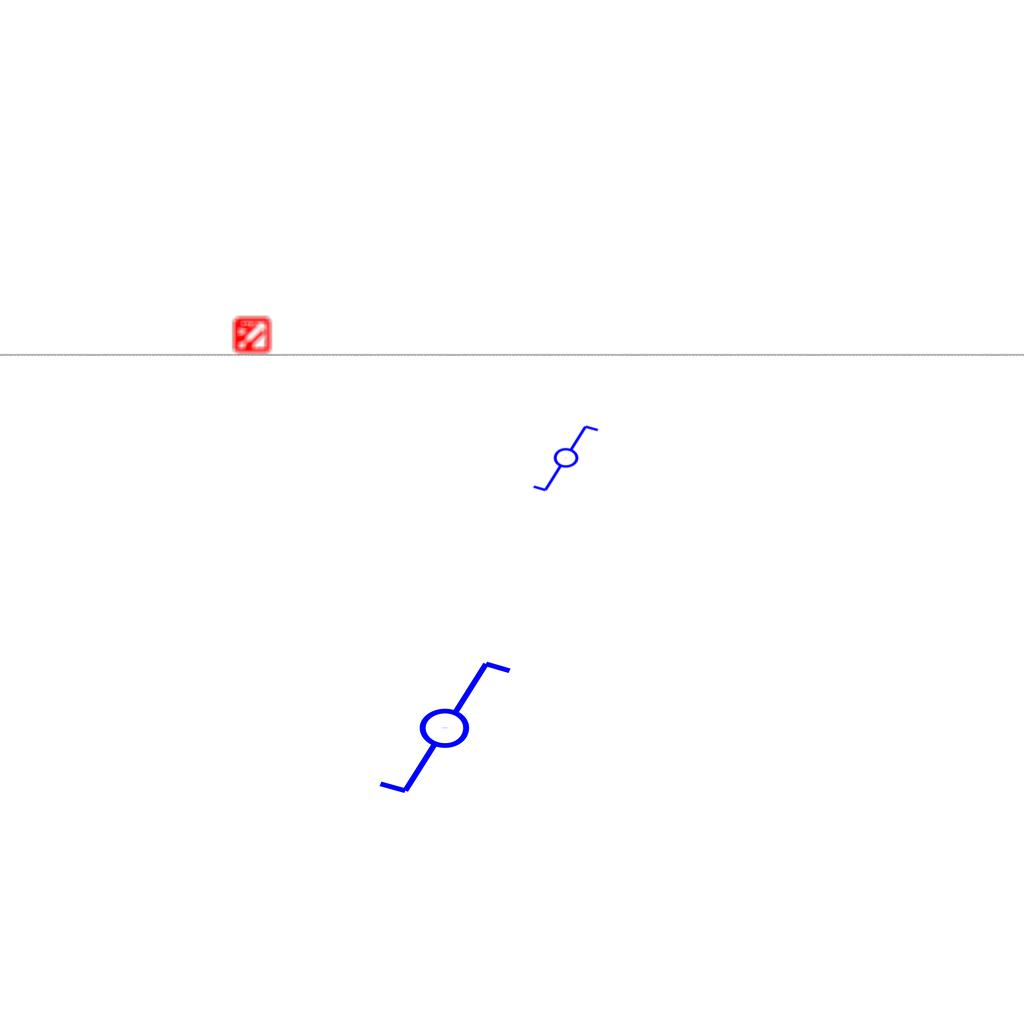OT_Multisensormelder_(Kombination_RMO_WMD): (223, 307, 279, 363)
Wechselschalter: (358, 654, 515, 798), (531, 423, 609, 495)
